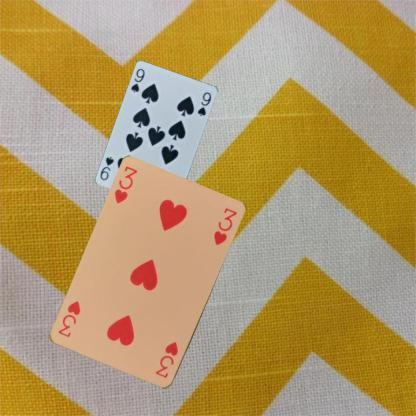3h: (152, 339, 180, 380), (112, 164, 138, 206)
9s: (128, 66, 146, 94)
